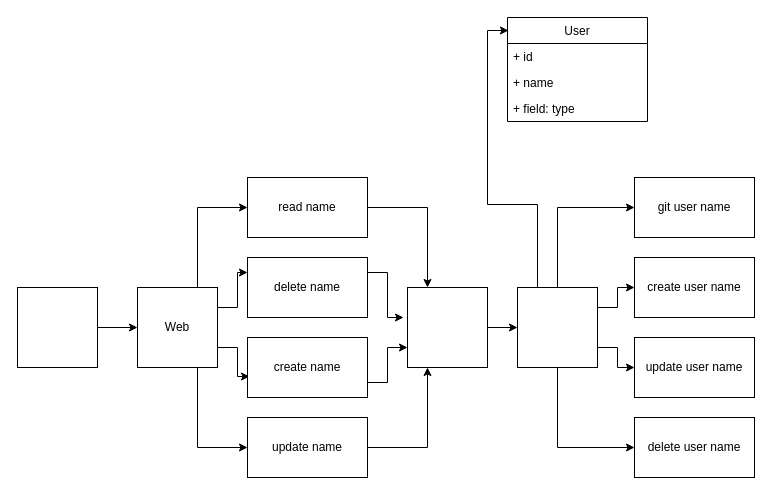
This 772x495 diagram has some shape labels left out. Each missing label, with the centre of its shape:
Client: (x=57, y=327)
Data base: (x=557, y=327)
Server: (x=447, y=327)
